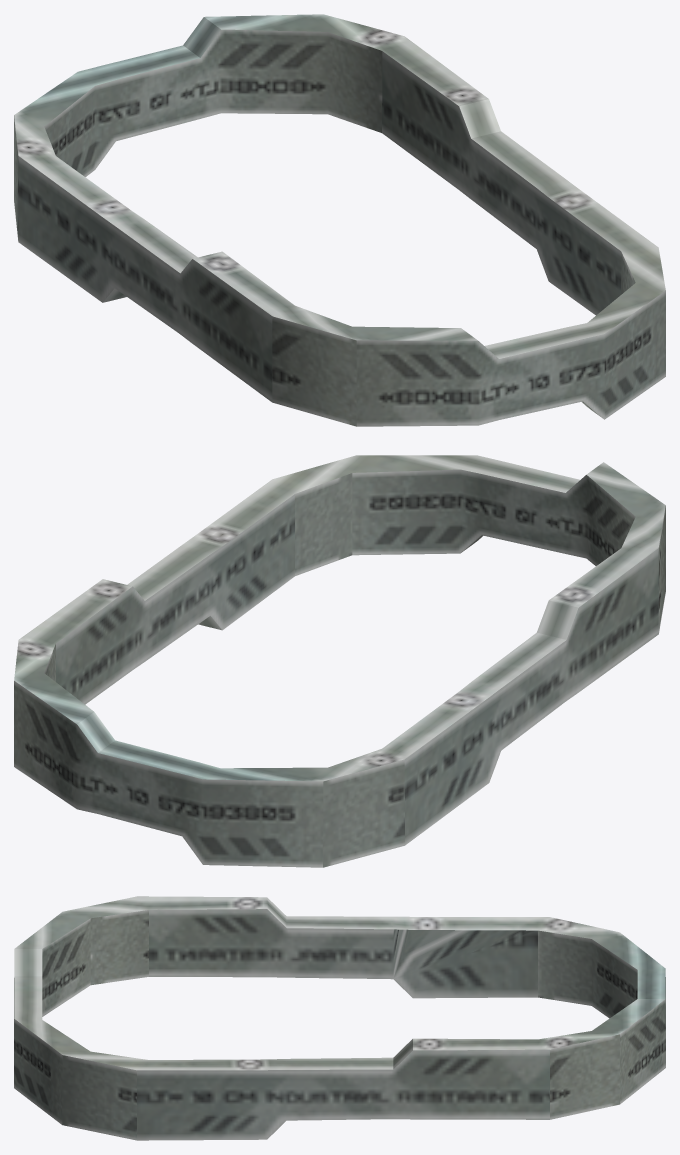
The model's file is BoxBeltFlat_Asym.FBX.
The picture shows the model from 3 angles, top to bottom: view 1: azimuth 30°, elevation 25°; view 2: azimuth 150°, elevation 25°; view 3: azimuth 270°, elevation 25°; orthographic projection. The views are drawn at different scales.
Parts seen in each view (by area): view 1: BoxBeltFlat_Asym; view 2: BoxBeltFlat_Asym; view 3: BoxBeltFlat_Asym.
Boxes of the visible parts, x1=… form: BoxBeltFlat_Asym: x1=14, y1=14, x2=665, y2=426; BoxBeltFlat_Asym: x1=14, y1=455, x2=665, y2=867; BoxBeltFlat_Asym: x1=14, y1=896, x2=665, y2=1140.
Size of the model in its own units: 124 by 34.18 by 222.
